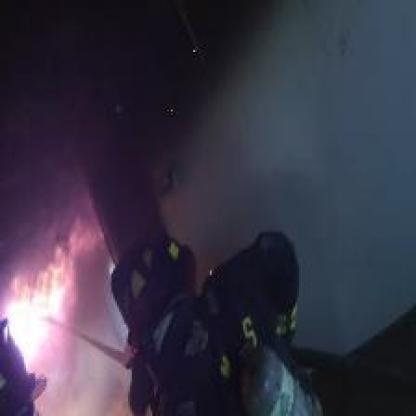fire: (1, 237, 69, 369)
